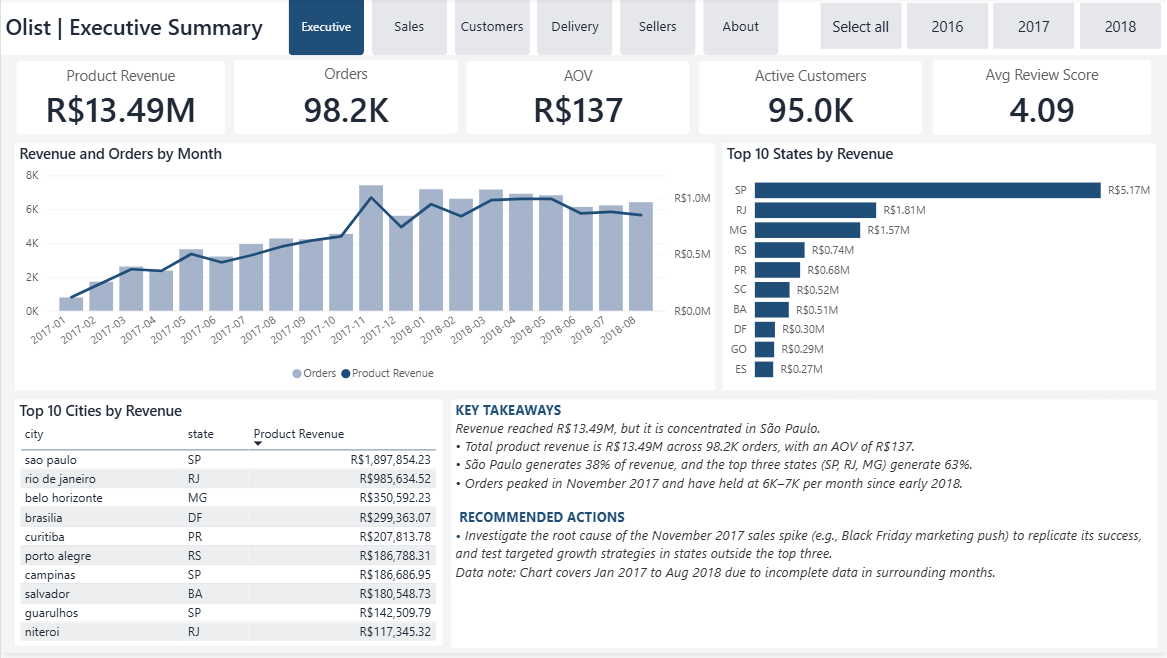

What the dashboard file says about the page in this screenshot:
{"tool":"powerbi","page":{"name":"Executive","canvas":[1280,720],"ordinal":0},"visuals":[{"type":"shape","box":[0,0,1280.3,63.8],"z":0},{"type":"textbox","box":[0,10.9,294,99.6],"z":1000},{"type":"advancedSlicerVisual","fields":{"Values":["gold dim_date.year"]},"box":[893,0,387.4,63.8],"z":2000},{"type":"cardVisual","fields":{"Data":["_Measures.Product Revenue"]},"box":[0,53,263.7,114.9],"z":3000},{"type":"cardVisual","fields":{"Data":["_Measures.Orders"]},"box":[239.3,52.6,280,115],"z":4000},{"type":"cardVisual","fields":{"Data":["_Measures.AOV"]},"box":[493.6,53,279.9,114.9],"z":5000},{"type":"cardVisual","fields":{"Data":["_Measures.Active Customers"]},"box":[749.9,53,279.9,114.9],"z":6000},{"type":"cardVisual","fields":{"Data":["_Measures.AVG Review Score"]},"box":[1281.7,75,318.3,138.3],"z":7000},{"type":"cardVisual","fields":{"Data":["_Measures.AVG Review Score"]},"box":[1006.3,51.6,274,116.4],"z":8000},{"type":"lineClusteredColumnComboChart","title":"Revenue and Orders by Month","fields":{"Category":["gold dim_date.year_month"],"Y2":["_Measures.Product Revenue"],"Y":["_Measures.Orders"]},"box":[14.7,160.6,769.1,271.1],"z":9000},{"type":"clusteredBarChart","title":"Top 10 States by Revenue","fields":{"Category":["gold dim_customer.state"],"Y":["_Measures.Product Revenue"]},"box":[791.2,160.6,475.9,271.1],"z":10000},{"type":"textbox","box":[471.5,442,798.5,272.6],"z":11000},{"type":"pageNavigator","box":[315.6,0,541.1,64.4],"z":12000},{"type":"tableEx","title":"Top 10 Cities by Revenue","fields":{"Values":["gold dim_customer.city","gold dim_customer.state","_Measures.Product Revenue"]},"box":[14.7,442,446.4,272.6],"z":12001}]}

Visuals, with their boxes in screenshot pixels (x1, y1, x2, y2), scaled from the page's 1280x720 canvas onto the 1167x658 screenshot:
shape: 0:0:1166:58
textbox: 0:10:268:101
advancedSlicerVisual - gold dim_date.year: 814:0:1166:58
cardVisual - _Measures.Product Revenue: 0:48:240:153
cardVisual - _Measures.Orders: 218:48:473:153
cardVisual - _Measures.AOV: 450:48:705:153
cardVisual - _Measures.Active Customers: 684:48:939:153
cardVisual - _Measures.AVG Review Score: 917:47:1166:154
"Revenue and Orders by Month" lineClusteredColumnComboChart: 13:147:715:395
"Top 10 States by Revenue" clusteredBarChart: 721:147:1155:395
textbox: 430:404:1158:653
pageNavigator: 288:0:781:59
"Top 10 Cities by Revenue" tableEx: 13:404:420:653
